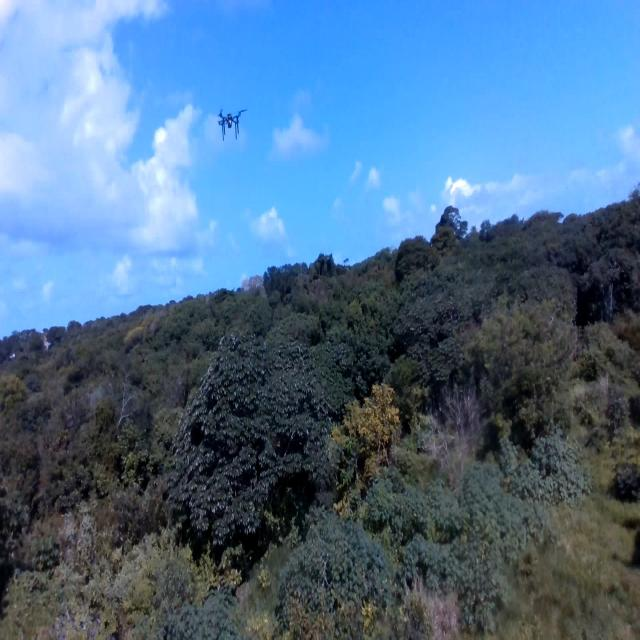-uav-: (212, 95, 252, 154)
